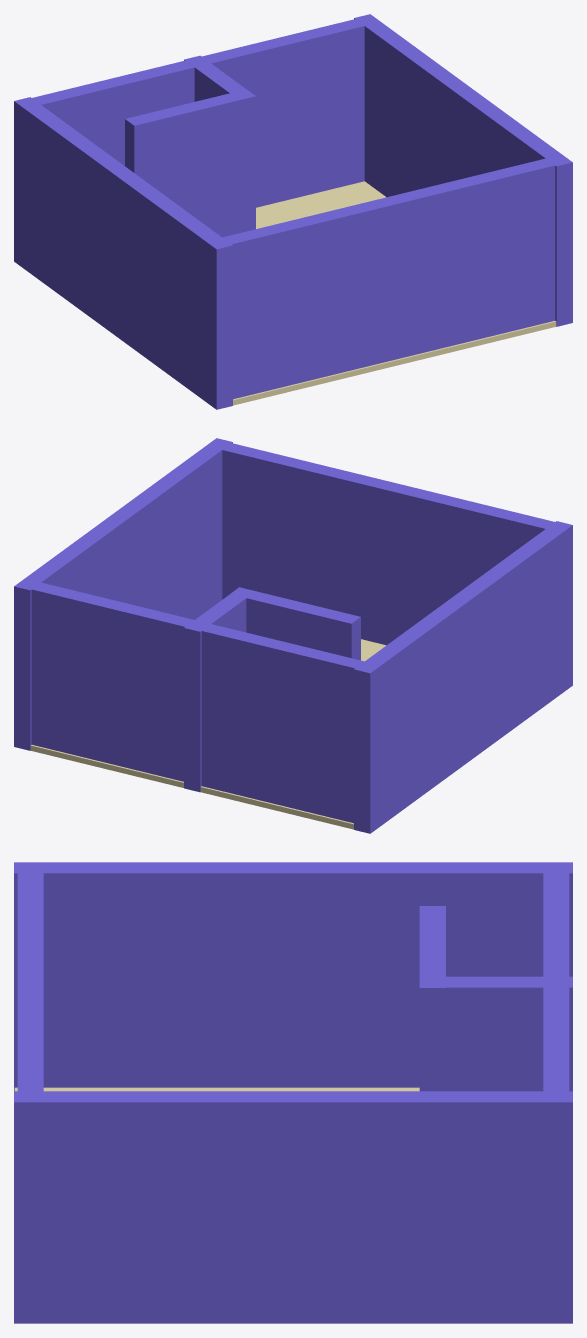
File: little baisc plan i made.fbx
3 renders of one model, top to bottom at view 1: azimuth 30°, elevation 25°; view 2: azimuth 150°, elevation 25°; view 3: azimuth 270°, elevation 25°, orthographic. The views are drawn at different scales.
Parts seen in each view (by area): view 1: Cube.002, Cube.003, Cube.001, Cube.004, Cube.006, Cube, Cube.005; view 2: Cube.001, Cube.002, Cube.003, Cube.004, Cube.006, Cube.005, Cube; view 3: Cube.004, Cube.003, Cube.005, Cube.002, Cube.001, Cube.006, Cube.
Boxes of the visible parts, <box> form: Cube.002: <box>209,155,568,399</box>; Cube.003: <box>14,97,232,409</box>; Cube.001: <box>18,16,377,207</box>; Cube.004: <box>354,14,572,326</box>; Cube.006: <box>125,90,255,237</box>; Cube: <box>233,181,556,405</box>; Cube.005: <box>184,55,254,101</box>; Cube.001: <box>18,579,377,823</box>; Cube.002: <box>209,440,567,645</box>; Cube.003: <box>354,521,572,833</box>; Cube.004: <box>14,438,232,750</box>; Cube.006: <box>230,587,360,660</box>; Cube.005: <box>184,587,255,792</box>; Cube: <box>30,639,386,829</box>; Cube.004: <box>14,1091,572,1323</box>; Cube.003: <box>14,862,572,1091</box>; Cube.005: <box>420,976,572,1091</box>; Cube.002: <box>17,864,43,1100</box>; Cube.001: <box>543,864,569,1100</box>; Cube.006: <box>419,906,445,1091</box>; Cube: <box>14,1087,419,1091</box>.
Bounding box in the file's own units: 214 × 217 × 93.53.
